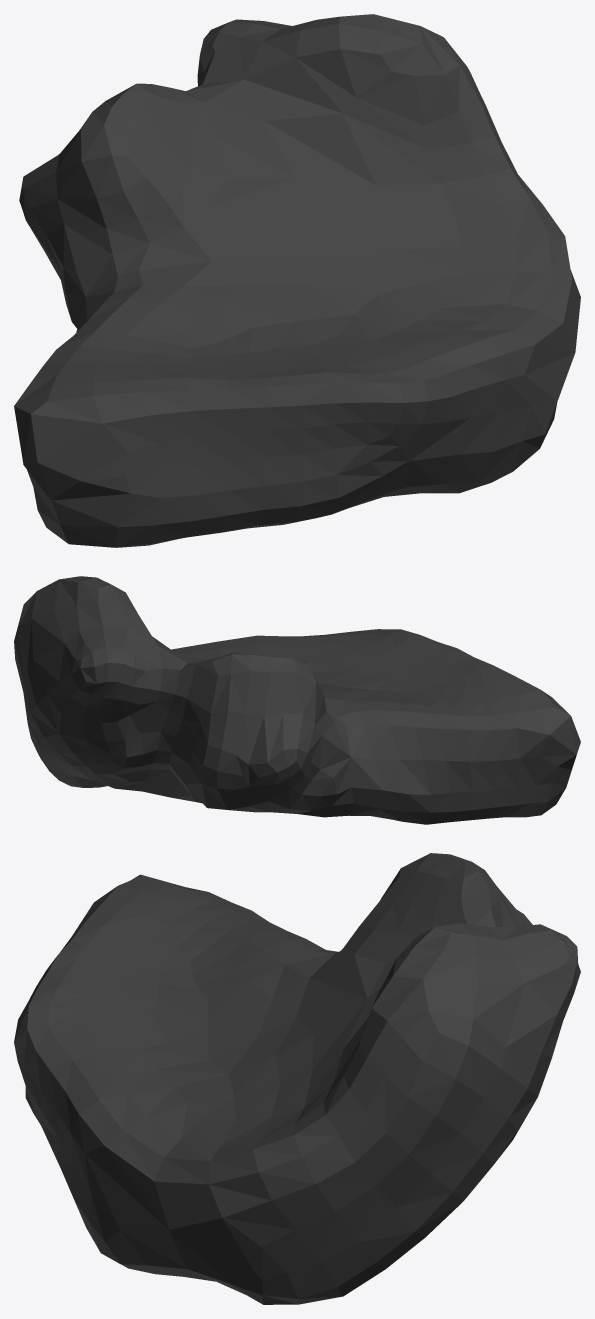
The model's file is Central_tarsal_R.glb.
The picture shows the model from 3 angles, top to bottom: view 1: azimuth 30°, elevation 25°; view 2: azimuth 150°, elevation 25°; view 3: azimuth 270°, elevation 25°; orthographic projection. The views are drawn at different scales.
Visible parts, largest first — view 1: Central_tarsal_R; view 2: Central_tarsal_R; view 3: Central_tarsal_R.
Boxes of the visible parts, left/top/right/bottom form: Central_tarsal_R: left=14, top=14, right=580, bottom=547; Central_tarsal_R: left=14, top=576, right=580, bottom=824; Central_tarsal_R: left=14, top=853, right=580, bottom=1304.
Size of the model in its own units: 0.0833 by 0.0451 by 0.0676.
Materials: 1 (1 with a texture image).
